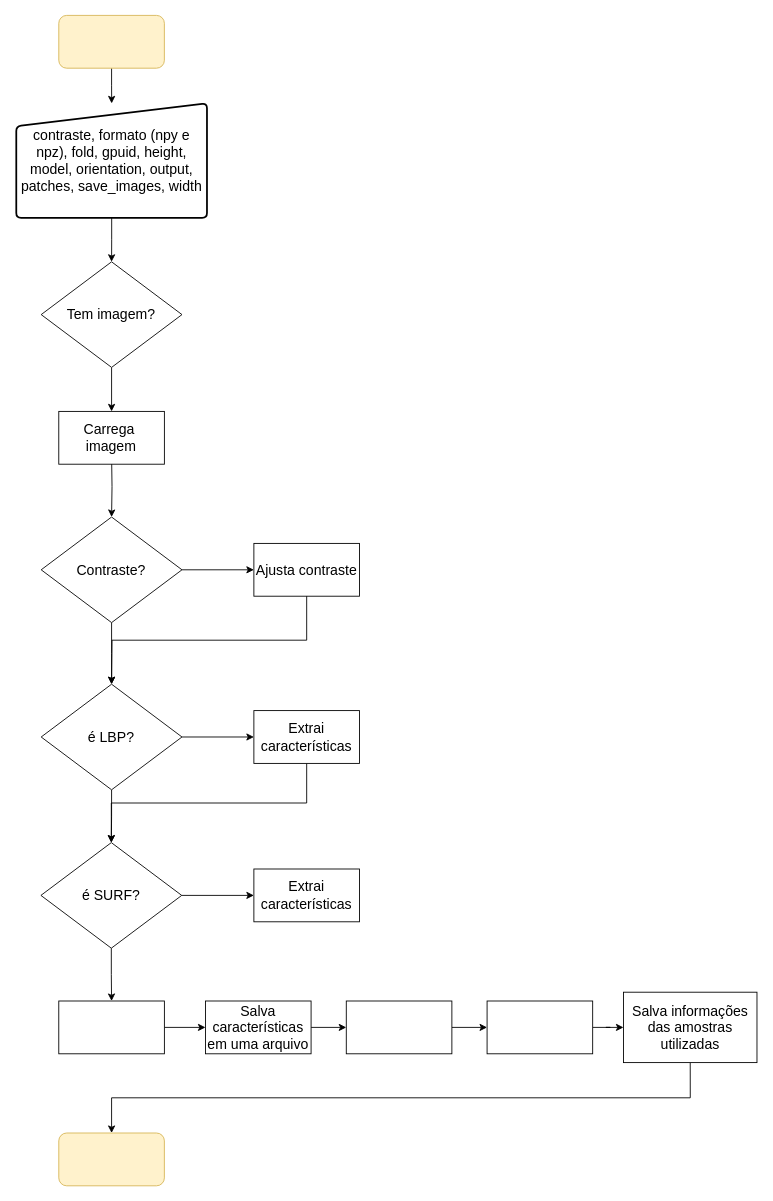
Image size: 773x1201. Some labels were removed from this diagram. Each missing label, with the box of its shape:
Fim: (58, 1132, 164, 1186)
Invoca a função save: (58, 1000, 164, 1054)
Início: (58, 15, 164, 68)
Salva imagens com patches: (345, 1000, 452, 1054)
Salva informações do dataset: (486, 1000, 593, 1054)
